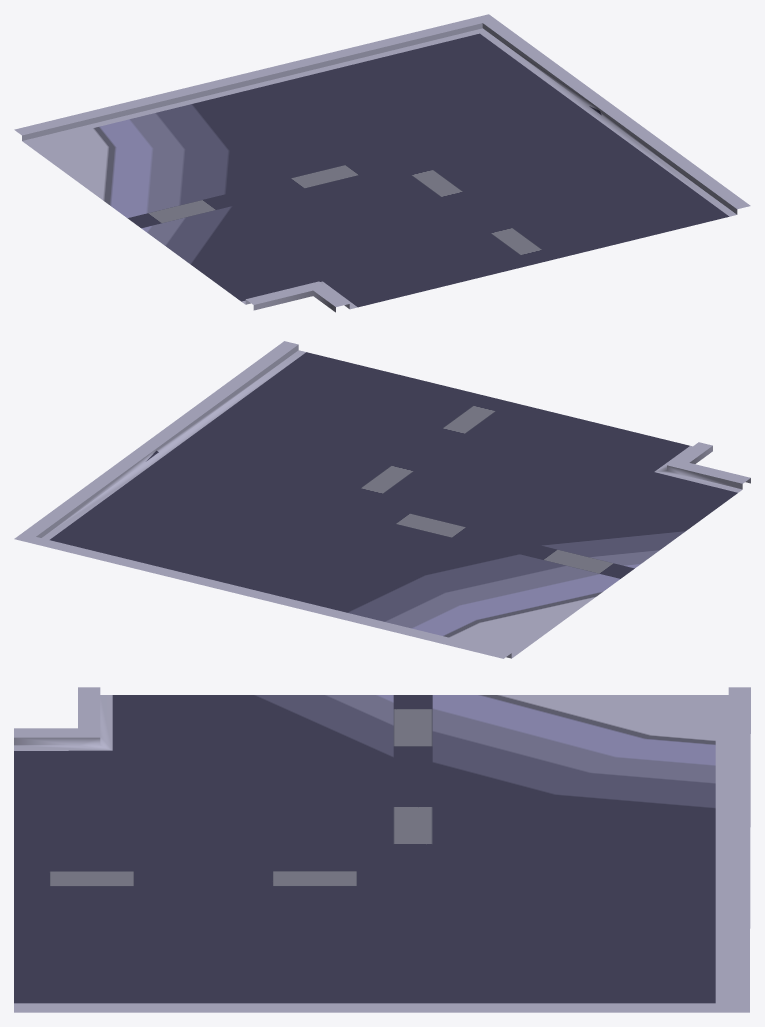
Rendered from block_3.fbx.
3 renders of one model, top to bottom at view 1: azimuth 30°, elevation 25°; view 2: azimuth 150°, elevation 25°; view 3: azimuth 270°, elevation 25°, orthographic. The views are drawn at different scales.
Parts seen in each view (by area): view 1: Block_3; view 2: Block_3; view 3: Block_3.
Part boxes in pixels (x1=…): Block_3: x1=14, y1=14, x2=750, y2=312; Block_3: x1=14, y1=341, x2=750, y2=658; Block_3: x1=14, y1=687, x2=750, y2=1012.
Bounding box in the file's own units: 11.37 × 0.1272 × 10.89.
